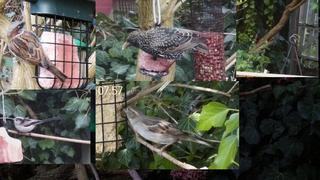long tailed tit: (12, 116, 64, 136)
sparrow: (122, 106, 212, 157), (7, 21, 69, 83)
starling: (122, 27, 210, 60)
